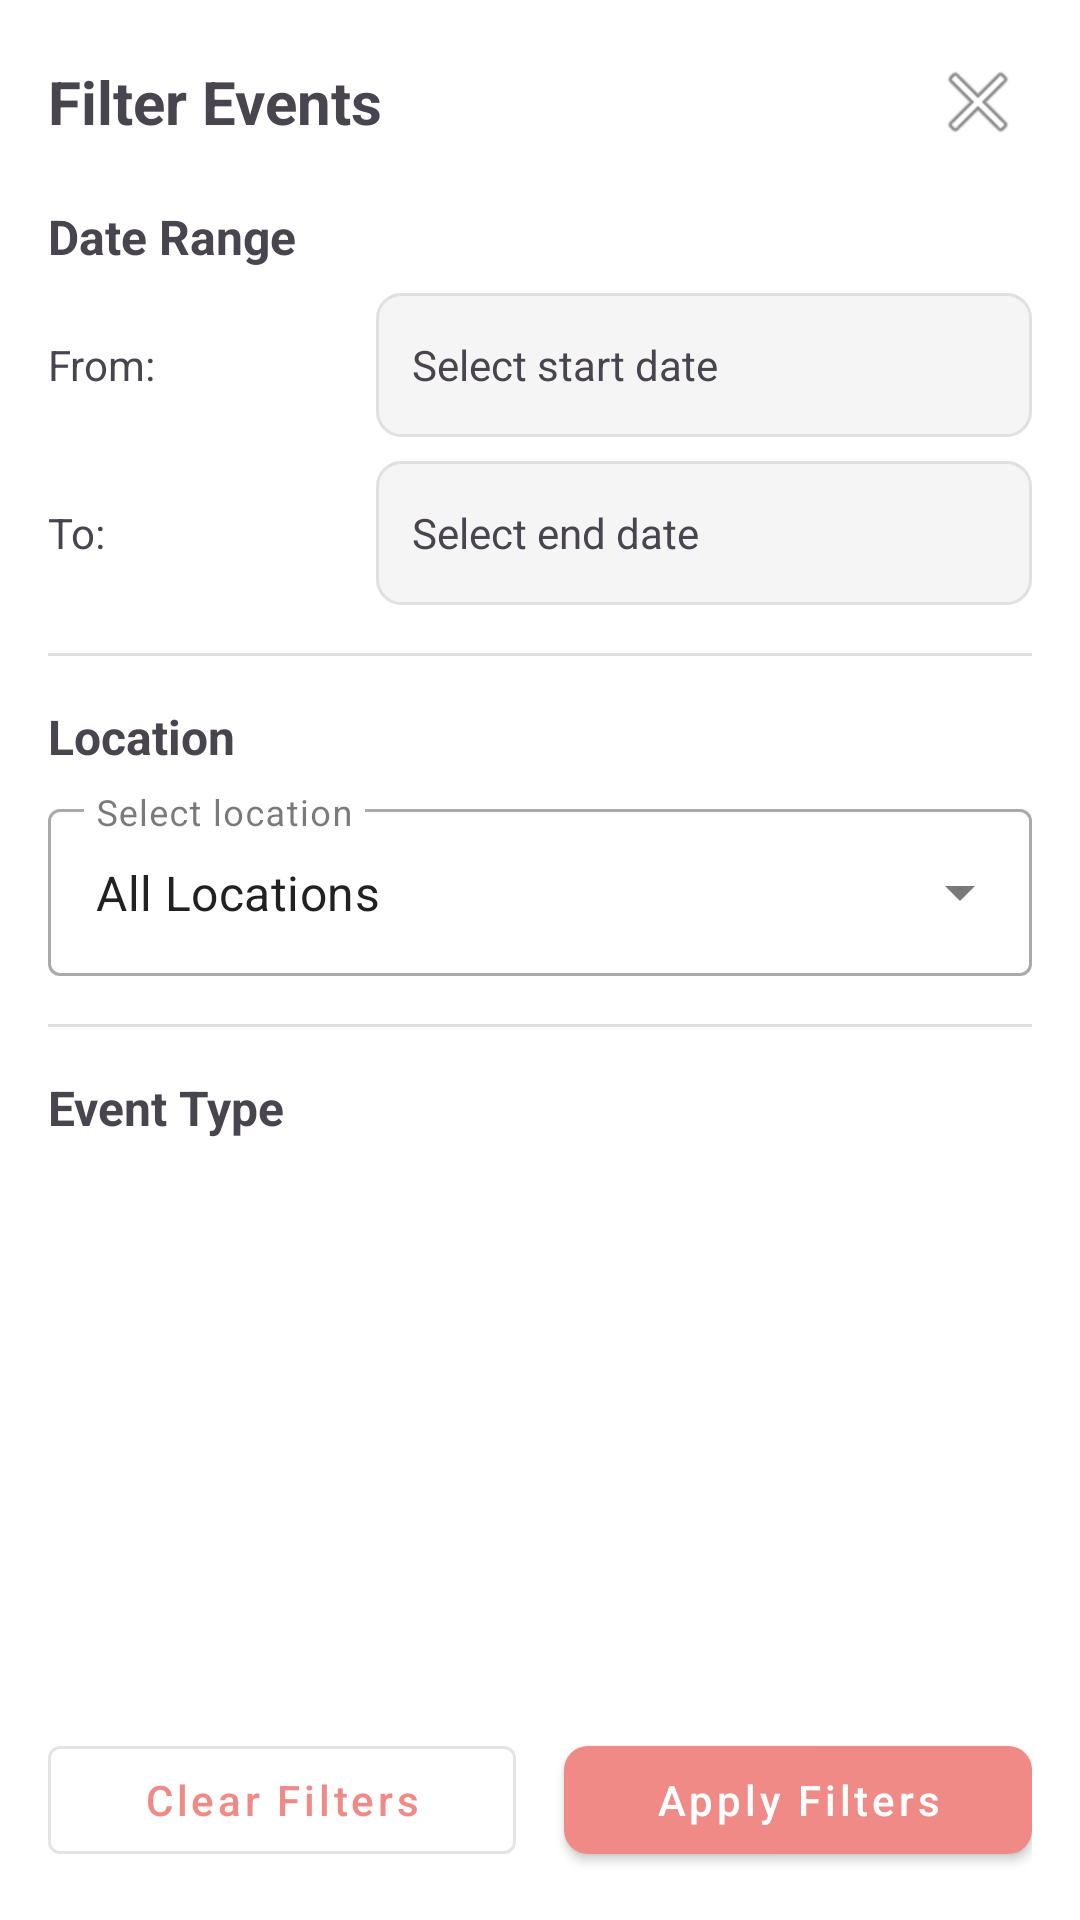

Locate icon controls on the screen. Image size 1080px×1920px, boxes as (x1, y1, x2, y2).
Close: (948, 72, 1008, 132)
